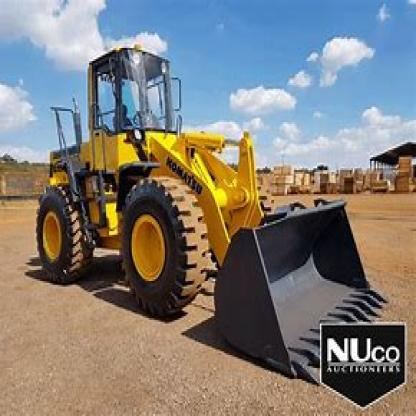bull_dozer/loader/grader: (29, 33, 396, 385)
